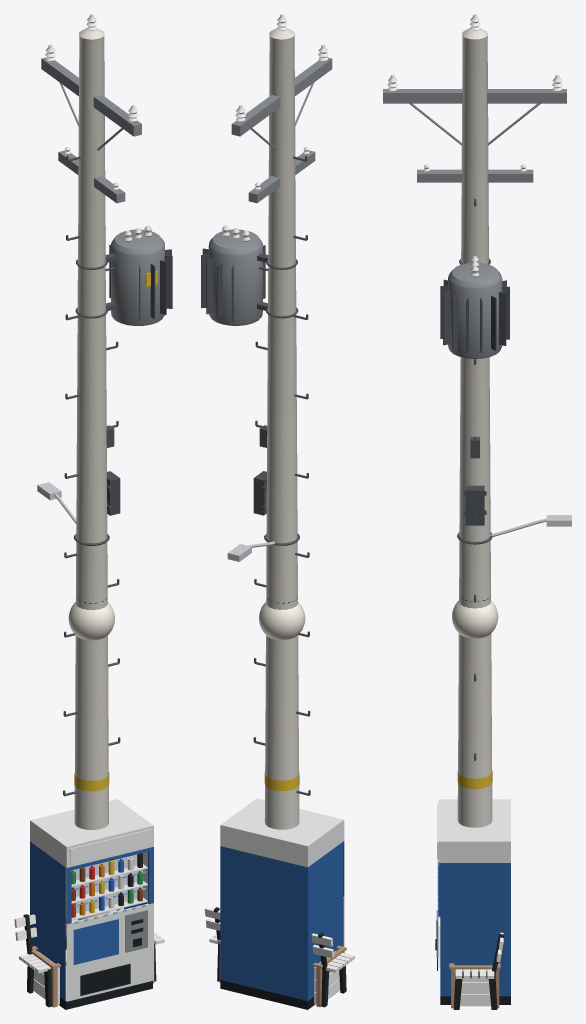
File: props.glb
3 views of the same model, side by side, from view 1: azimuth 30°, elevation 25°; view 2: azimuth 150°, elevation 25°; view 3: azimuth 270°, elevation 25° (orthographic).
Parts seen in each view (by area): view 1: pole, vending, transformer, bench, lamp, planter_l, pole_lamp; view 2: pole, vending, transformer, bench, lamp, planter_l, pole_lamp; view 3: pole, vending, transformer, planter_l, lamp, bench, pole_lamp.
Part boxes in pixels (bbox=[...]): pole: bbox=[41, 14, 141, 920]; vending: bbox=[30, 799, 153, 1009]; transformer: bbox=[75, 225, 172, 325]; bench: bbox=[14, 908, 164, 1007]; lamp: bbox=[68, 597, 114, 640]; planter_l: bbox=[31, 940, 156, 1007]; pole_lamp: bbox=[37, 482, 109, 545]; pole: bbox=[231, 14, 332, 829]; vending: bbox=[220, 798, 344, 1009]; transformer: bbox=[201, 225, 298, 325]; bench: bbox=[204, 907, 354, 1007]; lamp: bbox=[259, 598, 305, 640]; planter_l: bbox=[217, 940, 346, 1007]; pole_lamp: bbox=[227, 533, 299, 561]; pole: bbox=[383, 14, 566, 827]; vending: bbox=[435, 799, 510, 1004]; transformer: bbox=[440, 256, 509, 358]; planter_l: bbox=[449, 963, 500, 1008]; lamp: bbox=[452, 596, 498, 638]; bench: bbox=[453, 932, 503, 1009]; pole_lamp: bbox=[457, 515, 571, 544].
Size of the model in its own units: 1.65 by 11.07 by 1.95.
